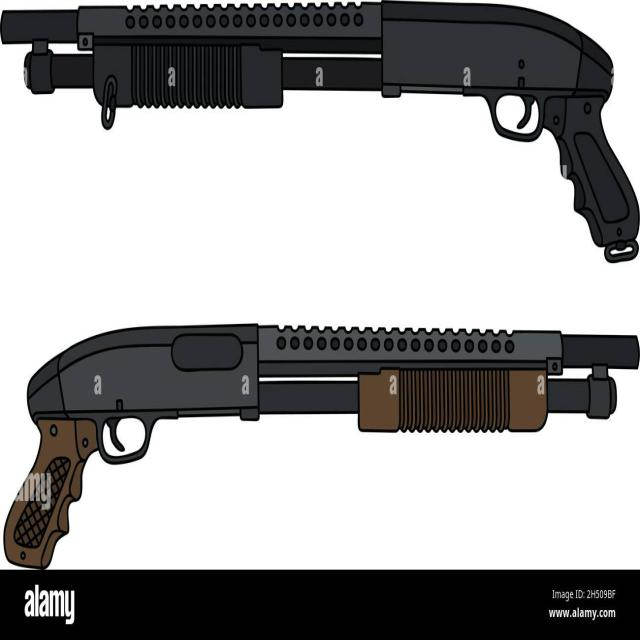ShotGun: (0, 0, 640, 265), (3, 323, 640, 570)
